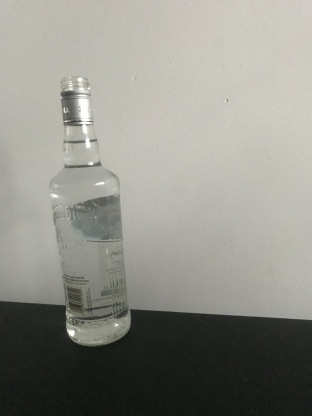nakretka: (58, 76, 95, 126)
